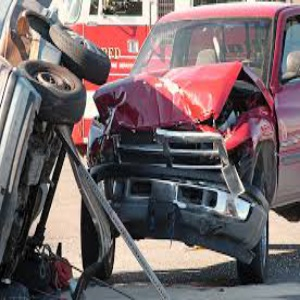bonnet: (112, 59, 248, 129)
bumper: (157, 196, 270, 265)
